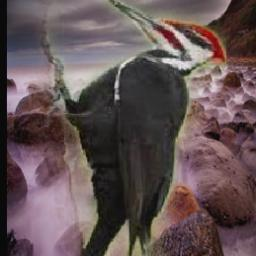Woodpecker: (29, 0, 226, 256)
